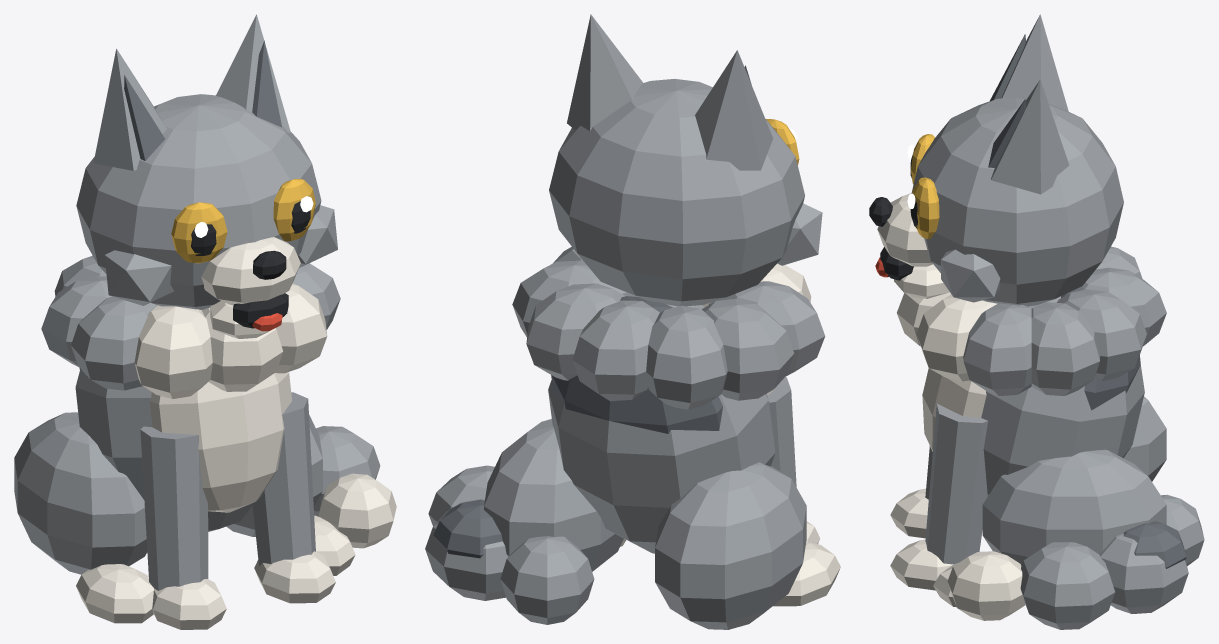
Rendered from howling-wolf-pup.glb.
3 renders of one model, left to right at view 1: azimuth 30°, elevation 25°; view 2: azimuth 150°, elevation 25°; view 3: azimuth 270°, elevation 25°, orthographic. The views are drawn at different scales.
Parts seen in each view (by area): view 1: WolfPup; view 2: WolfPup; view 3: WolfPup.
Boxes of the visible parts, x1,y1,x2,y2 form: WolfPup: [14, 14, 396, 629]; WolfPup: [425, 14, 840, 629]; WolfPup: [869, 14, 1204, 629].
Size of the model in its own units: 1.73 by 2.6 by 1.56.
